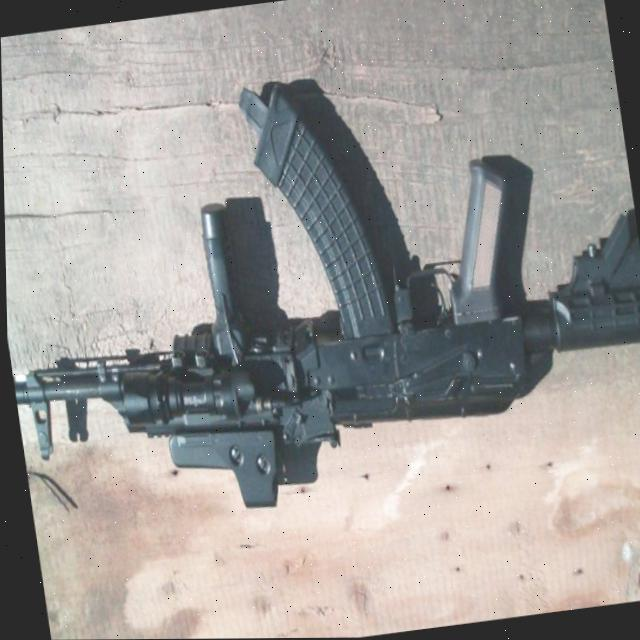firearm: (1, 40, 640, 537)
